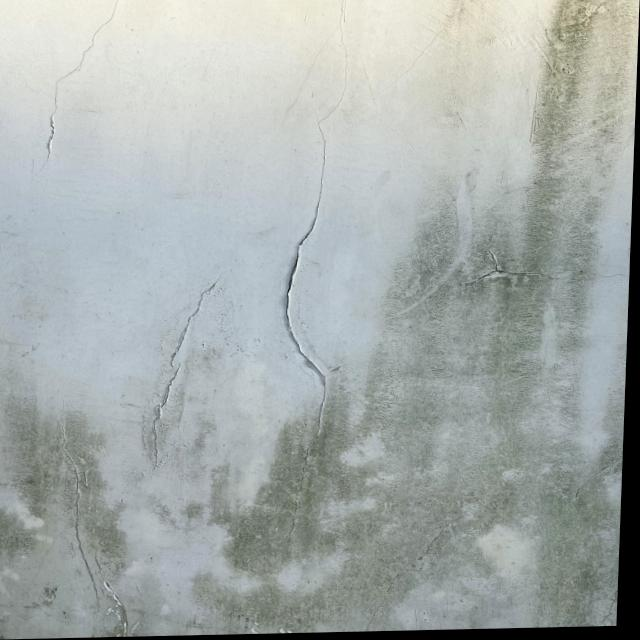crack: (253, 83, 361, 507), (121, 271, 230, 464), (52, 405, 142, 637), (36, 7, 132, 168)
mildew: (385, 217, 631, 479)
